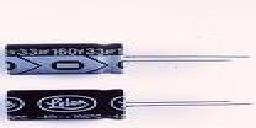Electrolytic-Capacitor: (5, 87, 256, 125), (3, 43, 256, 77)
